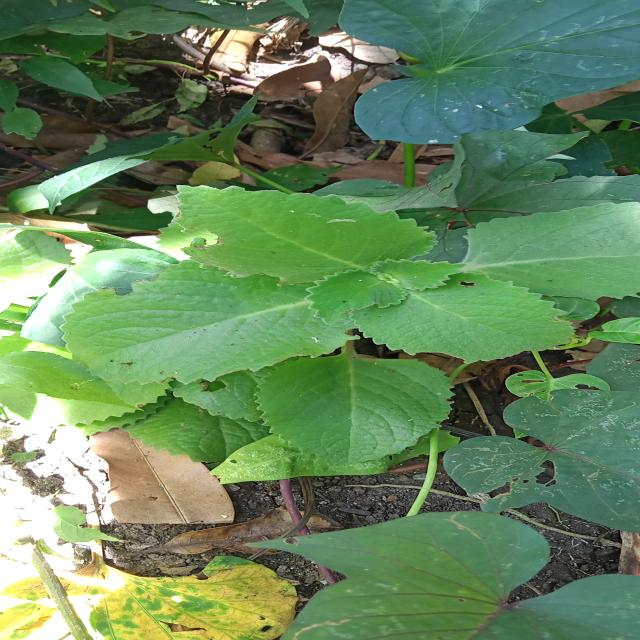Oregano: (165, 183, 640, 369)
